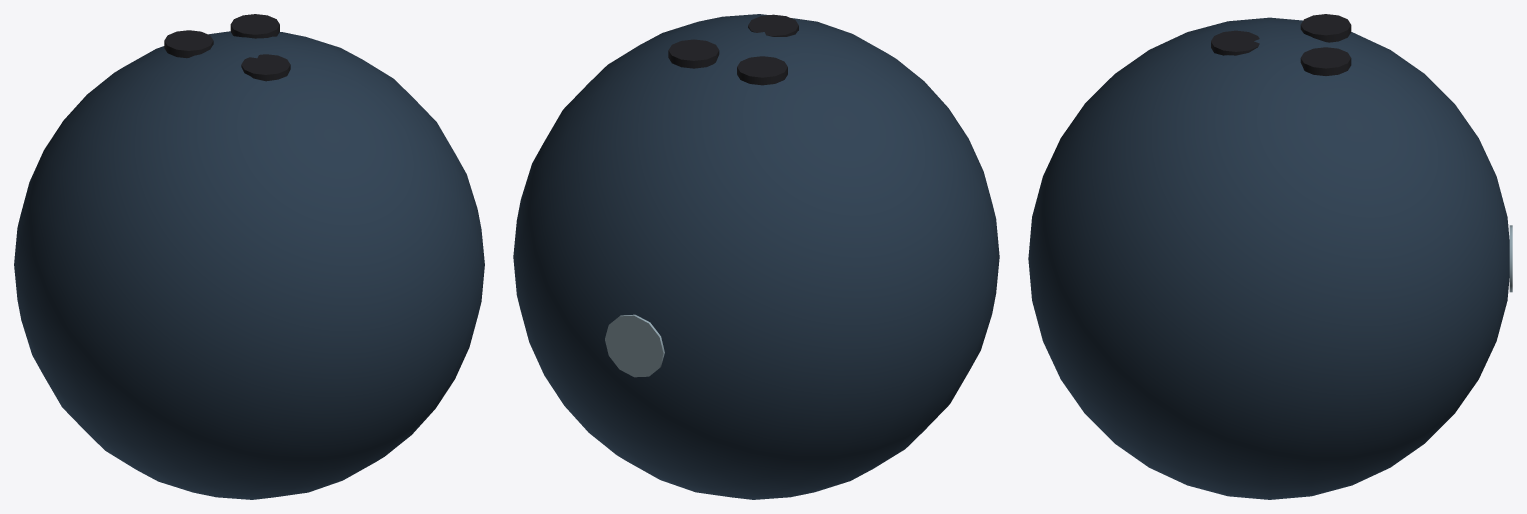
File: bowling_ball.fbx
3 renders of one model, left to right at view 1: azimuth 30°, elevation 25°; view 2: azimuth 150°, elevation 25°; view 3: azimuth 270°, elevation 25°, orthographic. The views are drawn at different scales.
Visible parts, largest first — view 1: Bowling Ball; view 2: Bowling Ball; view 3: Bowling Ball.
Boxes of the visible parts, bbox=[...] form: Bowling Ball: bbox=[14, 14, 484, 499]; Bowling Ball: bbox=[513, 14, 999, 499]; Bowling Ball: bbox=[1028, 14, 1512, 499].
Size of the model in its own units: 0.86 by 0.86 by 0.8625.
